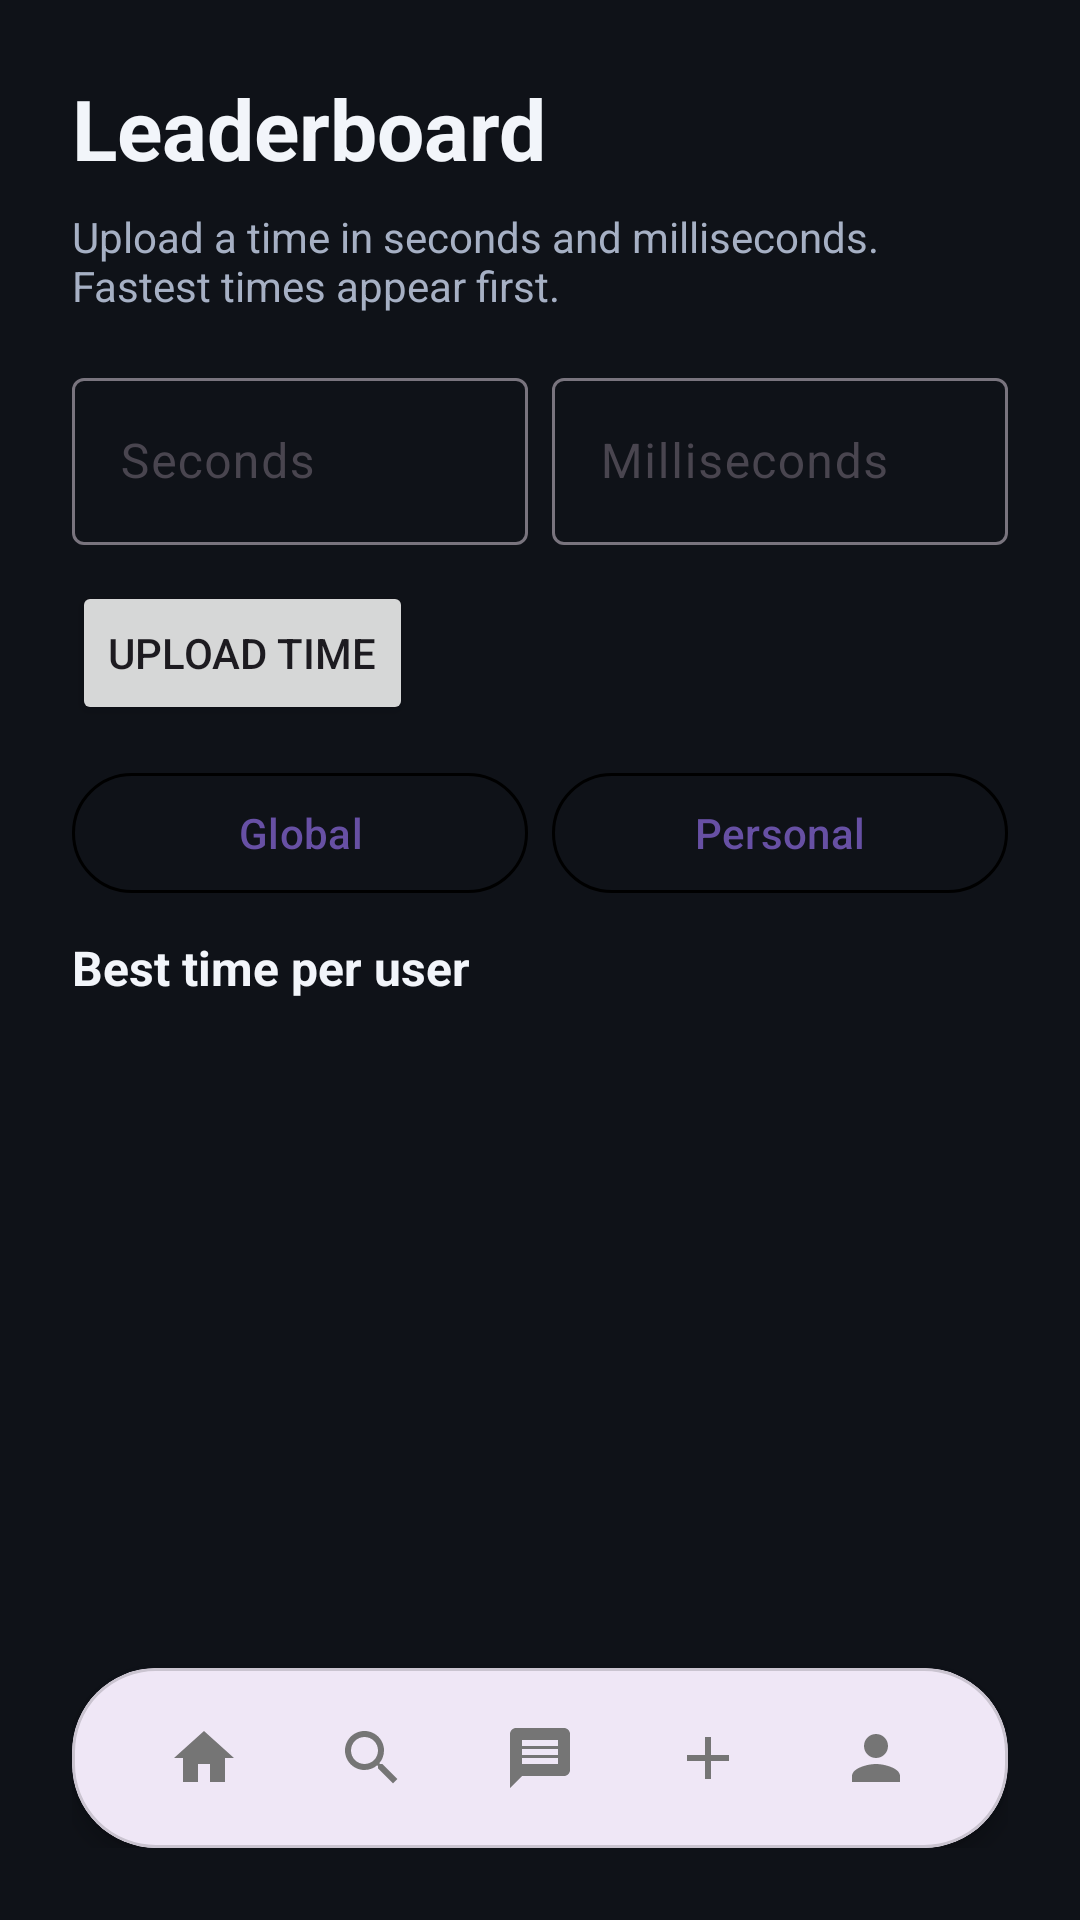

Icons on this 1080px×1920px Android screen, each with its box as (left=x1, top=y1, right=x2, bottom=y2):
Create post: (left=687, top=1737, right=729, bottom=1779)
Home: (left=174, top=1731, right=234, bottom=1782)
Messages: (left=510, top=1728, right=570, bottom=1788)
Open profile: (left=852, top=1734, right=900, bottom=1782)
Search: (left=345, top=1731, right=397, bottom=1783)
